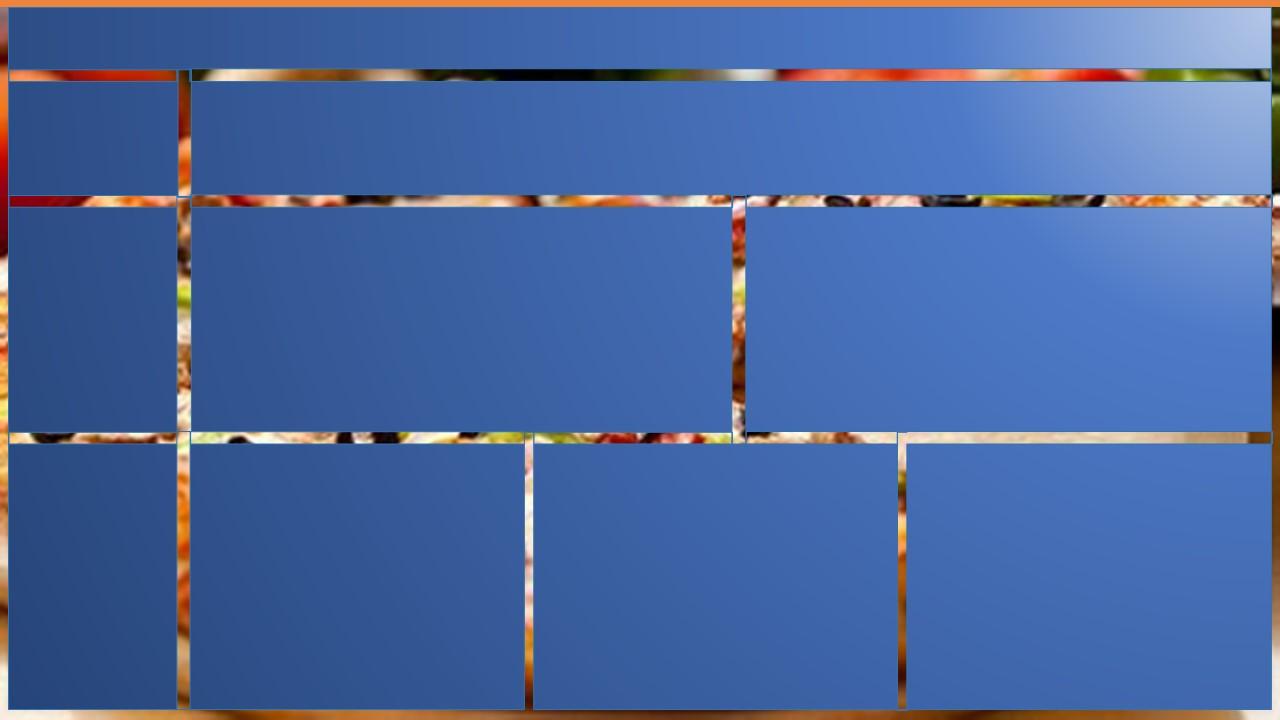

What the dashboard file says about the page in this screenshot:
{"tool":"tableau","page":{"name":"Dashboard 2","canvas":[1000,1000],"units":"permille","ordinal":1},"visuals":[{"type":"image","param":"C:/Users/Hp/Desktop/2024/PROJECTS/Dashboard Templates/Dashboard Templates/Slide3","box":[4.5,14.6,915.3,978.2]},{"type":"image","param":"C:/Users/Hp/Downloads/linkedin.jpeg","box":[31,24.8,57.5,90.2]},{"type":"image","param":"C:/Users/Hp/Downloads/github.jpg","box":[126.2,24.8,55.9,91.7]},{"type":"image","param":"C:/Users/Hp/Downloads/pizza-logo-vector-13019707.jpg","box":[235.1,32,55.2,75.7]},{"type":"image","param":"C:/Users/Hp/Downloads/pizza-logo-vector-13019707.jpg","box":[594.9,33.5,55.2,75.7]},{"type":"text","box":[297.8,36.4,293.3,69.9]},{"type":"text","box":[657.6,43.7,232.1,53.9]},{"type":"dashboard-object","box":[12.1,131,124,75.7]},{"type":"image","param":"C:/Users/Hp/Downloads/Picture6.png","box":[18.9,133.9,117.9,59.7]},{"type":"text","box":[435.4,136.8,142.9,131]},{"type":"text","box":[727.9,136.8,168.6,129.6]},{"type":"text","box":[141.3,138.3,136.1,128.1]},{"type":"text","box":[286.5,139.7,133,129.6]},{"type":"text","box":[585,141.2,143.6,122.3]},{"type":"image","param":"C:/Users/Hp/Downloads/Picture7.png","box":[11.3,193.6,117.2,85.9]},{"type":"worksheet","title":"Top 5 Orders","mark":"Automatic","rows":["pizza_name"],"cols":["Calculation_958422341743243267"],"box":[653.1,282.4,251.7,311.5]},{"type":"worksheet","title":"Top 5 By Revenue","mark":"Automatic","rows":["pizza_name"],"cols":["Calculation_958422341742452736"],"box":[137.6,286.8,238.8,307.1]},{"type":"worksheet","title":"Top 5 Sold","mark":"Automatic","rows":["pizza_name"],"cols":["Calculation_958422341743099906"],"box":[384.7,286.8,257.8,307.1]},{"type":"image","param":"C:/Users/Hp/Downloads/Picture8.png","box":[12.8,315.9,120.9,248.9]},{"type":"worksheet","title":"Bottom 5 By Revenue","mark":"Automatic","rows":["pizza_name"],"cols":["Calculation_958422341742452736"],"box":[138.3,607,238.1,374.1]},{"type":"worksheet","title":"Bottom 5 Sold","mark":"Automatic","rows":["pizza_name"],"cols":["Calculation_958422341743099906"],"box":[384.7,612.8,260,368.3]},{"type":"worksheet","title":"Bottom 5 Orders","mark":"Automatic","rows":["pizza_name"],"cols":["Calculation_958422341743243267"],"box":[651.6,612.8,254,366.8]},{"type":"image","param":"C:/Users/Hp/Downloads/Picture9.png","box":[9.8,706,119.4,214]}]}

Visuals, with their boxes on the dashboard's canvas, which has no fixed pixel size, in thousandths of its width and height (x1, y1, x2, y2). These are canvas units, not pixel positions in the 1280x720 screenshot, which may show the page scaled, cropped or inside an application window:
image: {"left": 4, "top": 15, "right": 920, "bottom": 993}
image: {"left": 31, "top": 25, "right": 88, "bottom": 115}
image: {"left": 126, "top": 25, "right": 182, "bottom": 116}
image: {"left": 235, "top": 32, "right": 290, "bottom": 108}
image: {"left": 595, "top": 34, "right": 650, "bottom": 109}
text: {"left": 298, "top": 36, "right": 591, "bottom": 106}
text: {"left": 658, "top": 44, "right": 890, "bottom": 98}
dashboard-object: {"left": 12, "top": 131, "right": 136, "bottom": 207}
image: {"left": 19, "top": 134, "right": 137, "bottom": 194}
text: {"left": 435, "top": 137, "right": 578, "bottom": 268}
text: {"left": 728, "top": 137, "right": 896, "bottom": 266}
text: {"left": 141, "top": 138, "right": 277, "bottom": 266}
text: {"left": 286, "top": 140, "right": 420, "bottom": 269}
text: {"left": 585, "top": 141, "right": 729, "bottom": 264}
image: {"left": 11, "top": 194, "right": 128, "bottom": 280}
"Top 5 Orders" worksheet: {"left": 653, "top": 282, "right": 905, "bottom": 594}
"Top 5 By Revenue" worksheet: {"left": 138, "top": 287, "right": 376, "bottom": 594}
"Top 5 Sold" worksheet: {"left": 385, "top": 287, "right": 642, "bottom": 594}
image: {"left": 13, "top": 316, "right": 134, "bottom": 565}
"Bottom 5 By Revenue" worksheet: {"left": 138, "top": 607, "right": 376, "bottom": 981}
"Bottom 5 Sold" worksheet: {"left": 385, "top": 613, "right": 645, "bottom": 981}
"Bottom 5 Orders" worksheet: {"left": 652, "top": 613, "right": 906, "bottom": 980}
image: {"left": 10, "top": 706, "right": 129, "bottom": 920}
